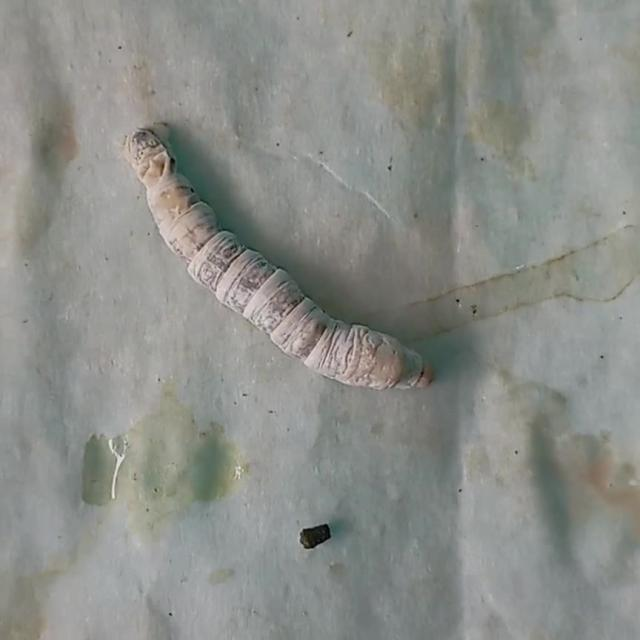Grasserie: (110, 101, 464, 422)
